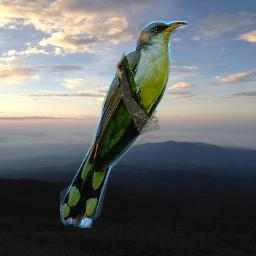Cuckoo: (60, 21, 187, 228)
